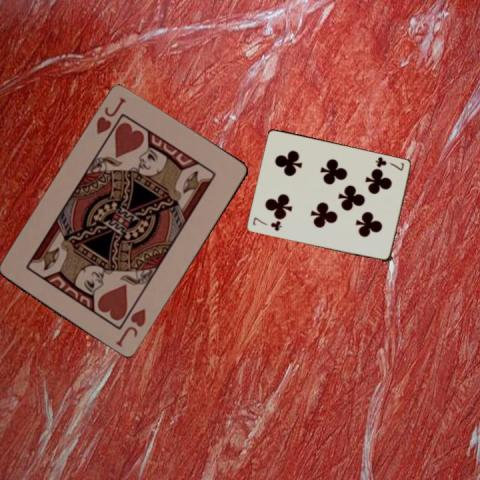7c: (249, 214, 283, 233), (372, 154, 405, 172)
Jh: (113, 306, 147, 349), (93, 95, 128, 136)
